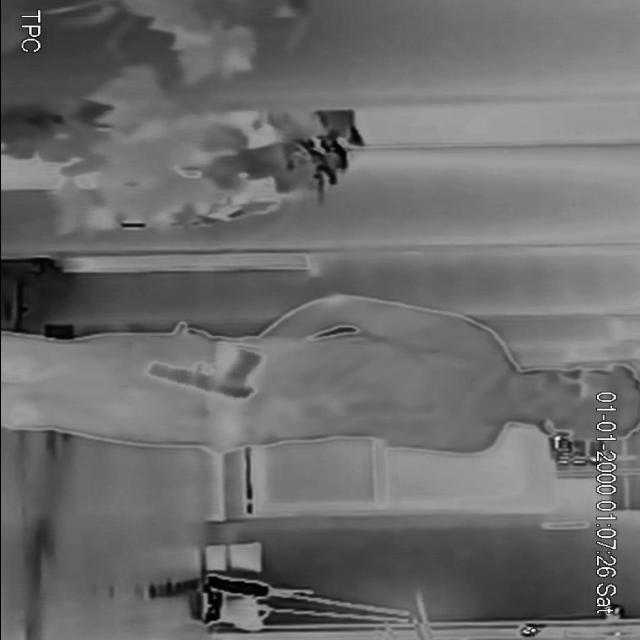Weapon: (127, 338, 266, 414)
